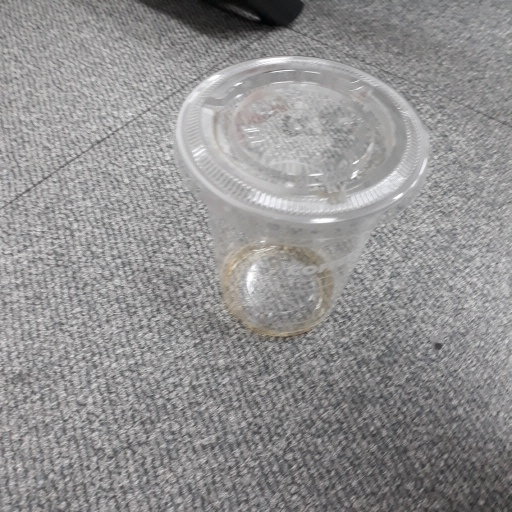Plastic_2: (173, 52, 429, 340)
